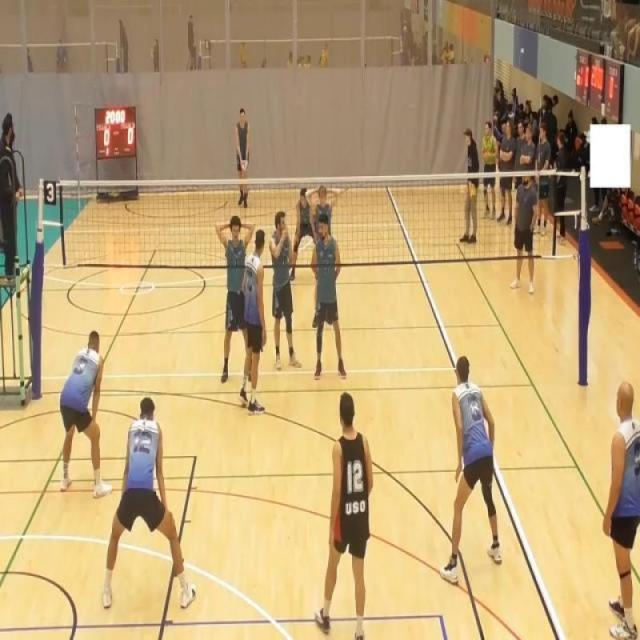volleyball: (240, 159, 248, 171)
